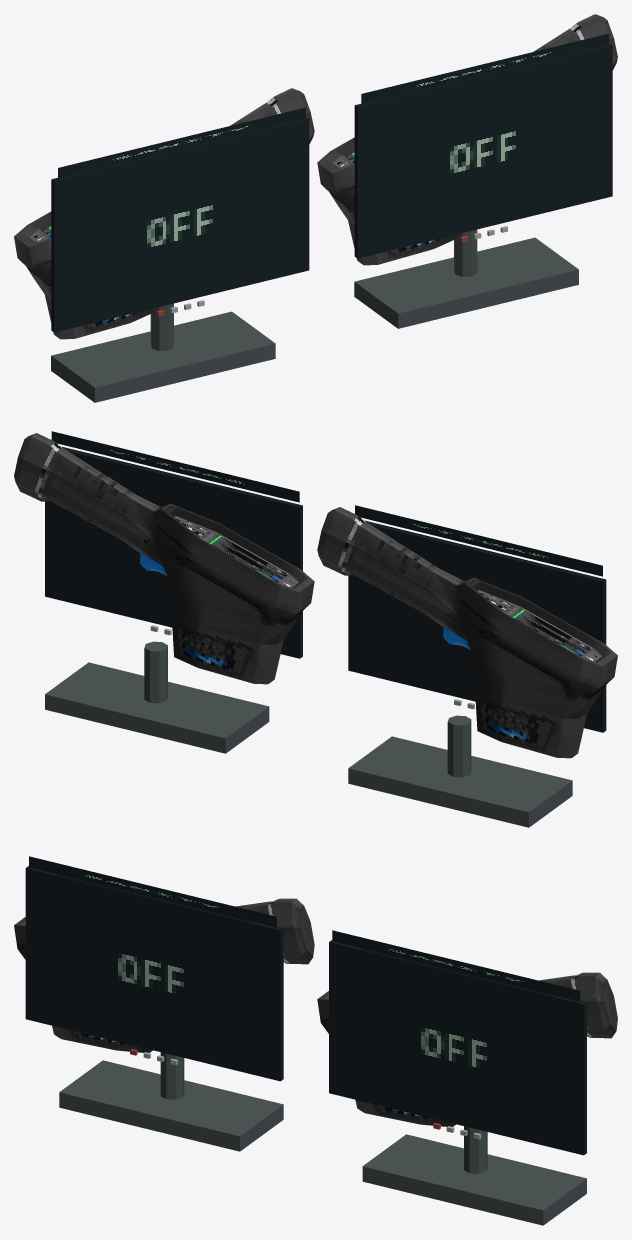
Rendered from blender_sanity_monitor_3.glb.
3 views of the same model, one above another, from view 1: azimuth 30°, elevation 25°; view 2: azimuth 150°, elevation 25°; view 3: azimuth 330°, elevation 25° (orthographic).
Parts seen in each view (by area): view 1: blender_sanity_monitor_3; view 2: blender_sanity_monitor_3; view 3: blender_sanity_monitor_3.
Boxes of the visible parts, x1,y1,x2,y2 form: blender_sanity_monitor_3: [14, 14, 617, 402]; blender_sanity_monitor_3: [14, 431, 617, 827]; blender_sanity_monitor_3: [14, 856, 617, 1225].
Bounding box in the file's own units: 1.02 × 0.4045 × 0.13.
1 material, 1 textured.
